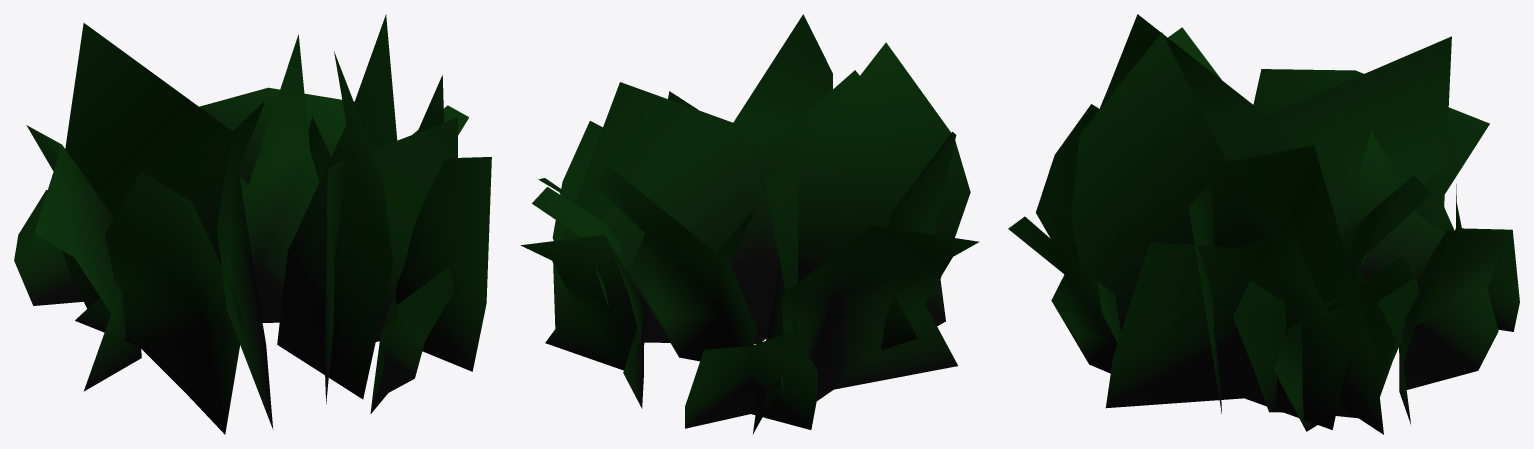
File: FlowerGrassGCATA_C.fbx
The picture shows the model from 3 angles, left to right: view 1: azimuth 30°, elevation 25°; view 2: azimuth 150°, elevation 25°; view 3: azimuth 270°, elevation 25°; orthographic projection. The views are drawn at different scales.
Visible parts, largest first — view 1: FGGCATAC_LOD0; view 2: FGGCATAC_LOD0; view 3: FGGCATAC_LOD0.
Part boxes in pixels (left/top/right/bottom): FGGCATAC_LOD0: left=14, top=14, right=491, bottom=434; FGGCATAC_LOD0: left=521, top=14, right=979, bottom=434; FGGCATAC_LOD0: left=1008, top=14, right=1519, bottom=434.
Size of what is drawn, in the model's own units: 1.06 by 0.745 by 1.02.
